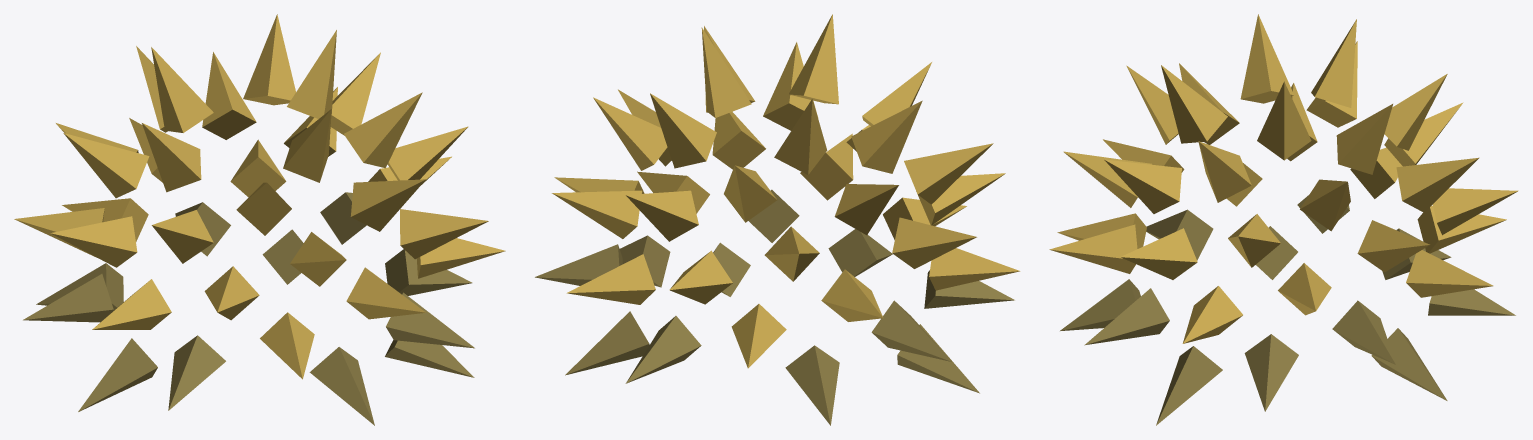
File: mold_yeast_bristle.glb
3 views of the same model, side by side, from view 1: azimuth 30°, elevation 25°; view 2: azimuth 150°, elevation 25°; view 3: azimuth 270°, elevation 25° (orthographic). The views are drawn at different scales.
Visible parts, largest first — view 1: body; view 2: body; view 3: body.
Boxes of the visible parts, box(x1,y1,x2,y2) form: body: box(14, 14, 505, 425); body: box(535, 14, 1020, 425); body: box(1049, 14, 1518, 425).
Bounding box in the file's own units: 0.5989 × 0.4384 × 0.6014.
